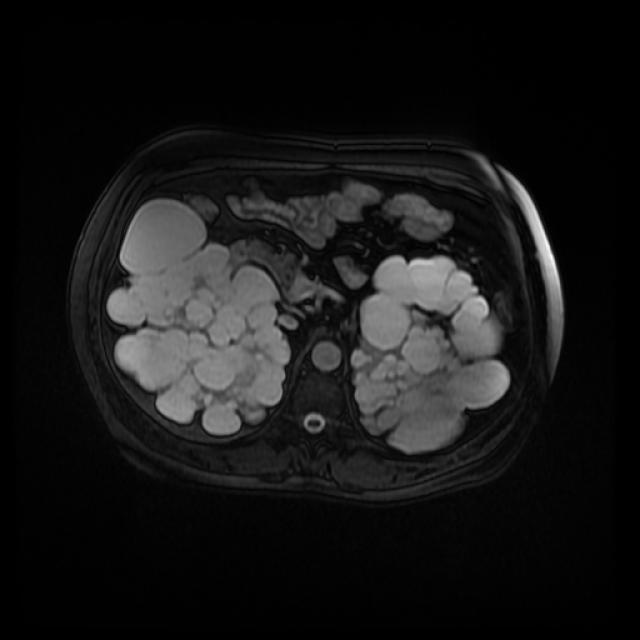sag: (105, 196, 290, 434)
sol: (351, 254, 512, 452)
